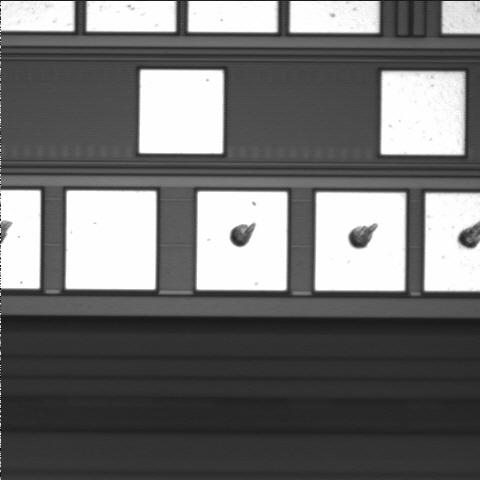pad: (315, 192, 405, 291), (66, 191, 156, 289), (197, 192, 287, 290), (139, 70, 223, 153), (381, 72, 464, 155)
